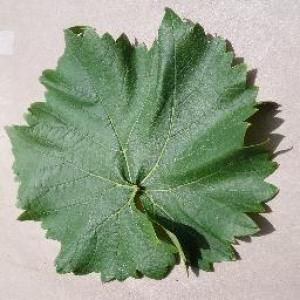Folha: (3, 6, 282, 282)
